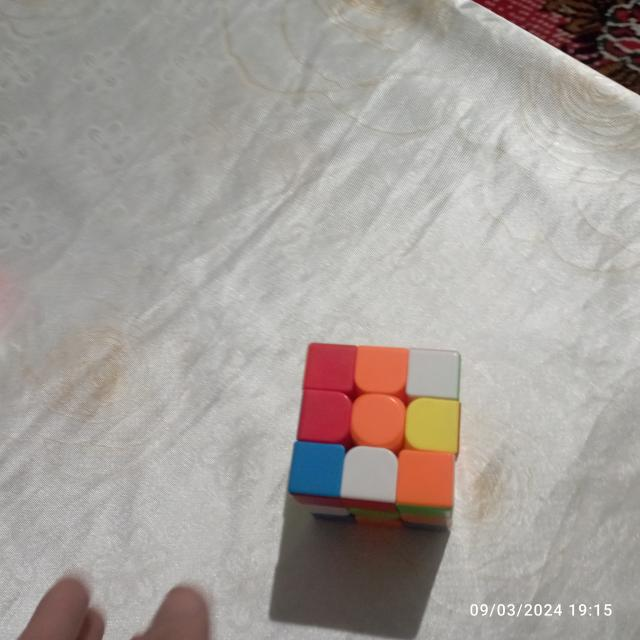Rub: (285, 336, 466, 536)
